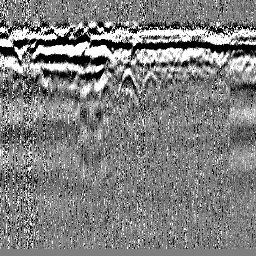cavity: (117, 66, 138, 98)
